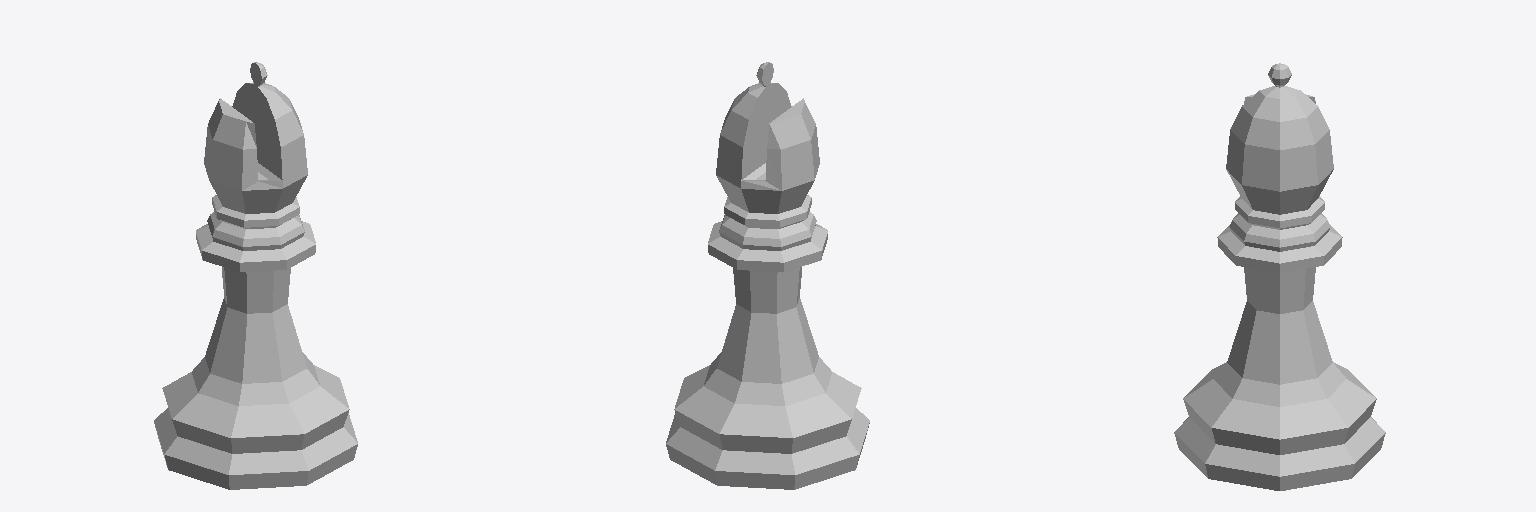
Rendered from bishop.obj.
The picture shows the model from 3 angles: view 1: azimuth 30°, elevation 25°; view 2: azimuth 150°, elevation 25°; view 3: azimuth 270°, elevation 25°; orthographic projection.
Visible parts, largest first — view 1: Chess_Bishop; view 2: Chess_Bishop; view 3: Chess_Bishop.
Part boxes in pixels (x1,y1,x2,y2): Chess_Bishop: (154,62,357,489); Chess_Bishop: (666,62,869,489); Chess_Bishop: (1174,63,1385,490).
Size of the model in its own units: 3.93 by 7.88 by 3.93.